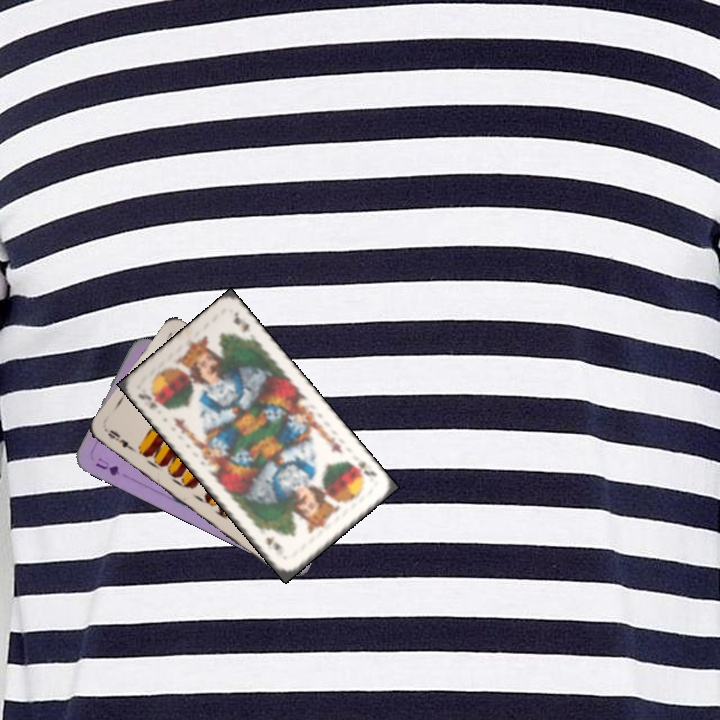E9: (102, 426, 138, 454)
GU: (91, 454, 122, 478)
SK: (345, 456, 380, 481), (134, 388, 167, 412)
